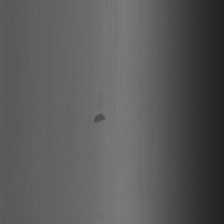oil_spot: (92, 105, 109, 130)
